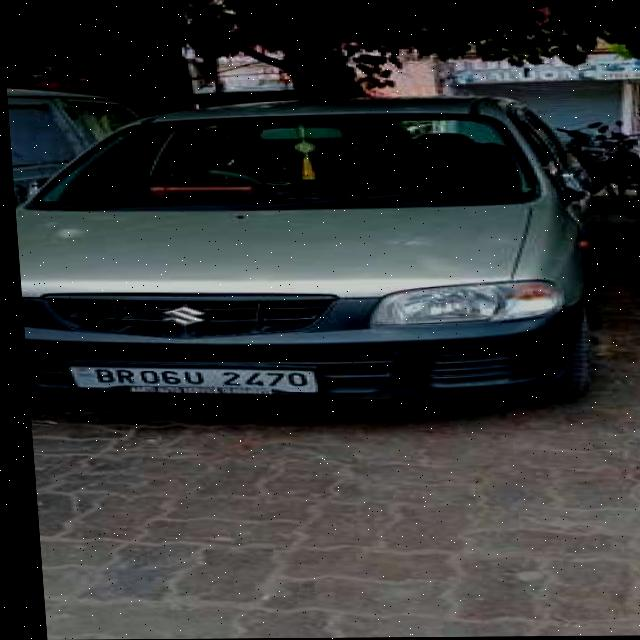plate: (62, 361, 319, 395)
